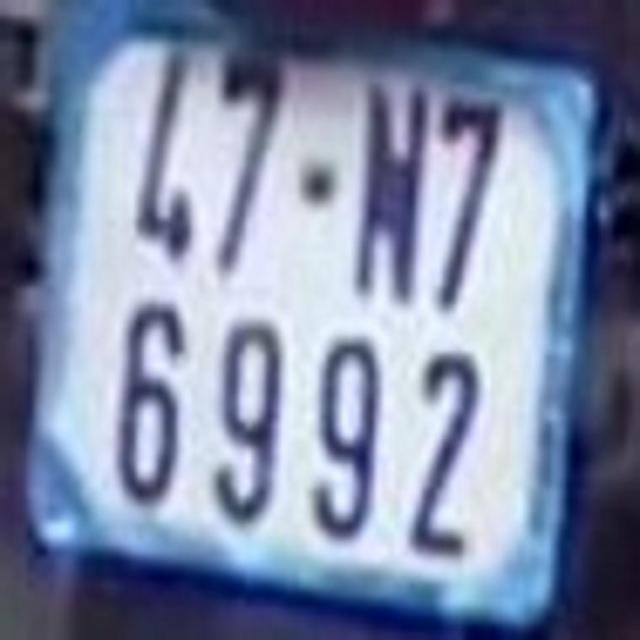2: (409, 357, 474, 560)
4: (137, 42, 195, 255)
6: (114, 304, 186, 492)
7: (216, 44, 284, 271), (442, 90, 505, 313)
9: (314, 334, 376, 538), (215, 322, 278, 520)
M: (360, 73, 423, 306)
